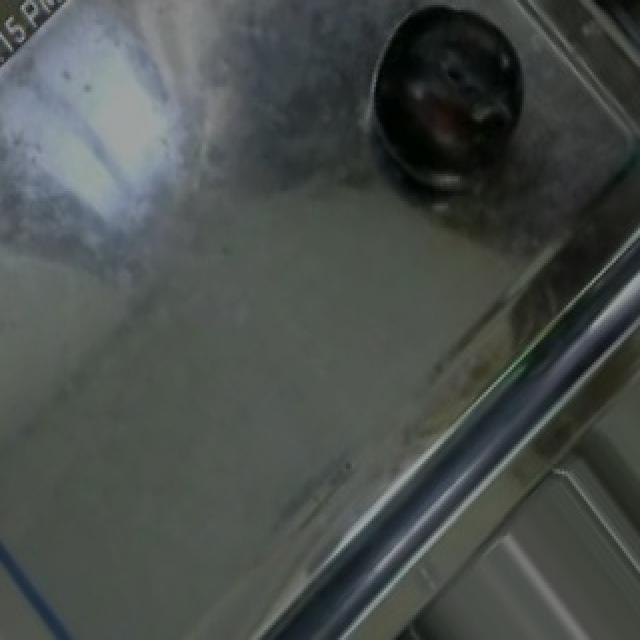Fruit: (348, 0, 548, 218)
